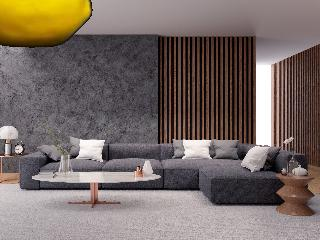lemon: (0, 0, 90, 46)
